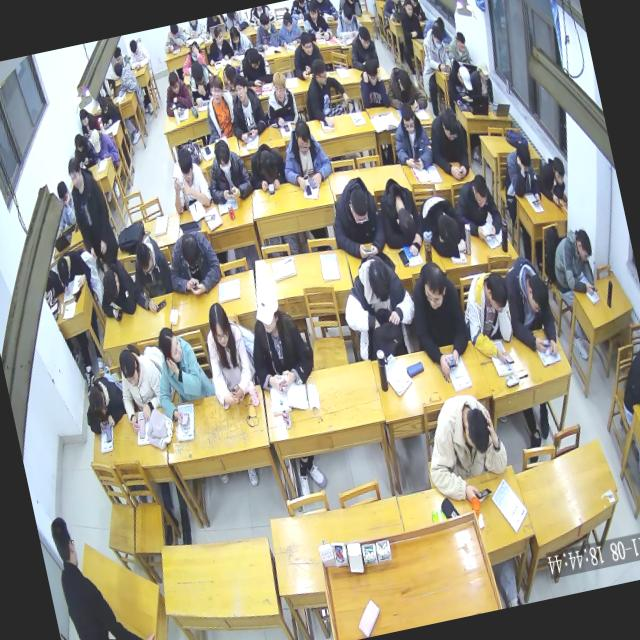bow: (496, 250, 564, 364), (160, 222, 226, 302), (372, 172, 428, 262), (414, 189, 470, 264), (76, 369, 130, 436), (92, 257, 142, 326), (381, 59, 429, 117), (246, 137, 290, 192), (532, 153, 572, 213), (52, 244, 95, 296), (182, 56, 218, 108), (176, 38, 208, 76), (160, 23, 187, 53)
down: (458, 402, 496, 458), (416, 258, 452, 314), (364, 254, 396, 305), (522, 270, 554, 318), (482, 269, 512, 317), (206, 300, 234, 351), (176, 230, 207, 276), (115, 346, 143, 392), (344, 186, 372, 229), (210, 135, 237, 177), (84, 384, 110, 424), (174, 144, 197, 186), (468, 172, 492, 212), (132, 240, 157, 278), (258, 147, 282, 186), (438, 105, 462, 143), (572, 226, 594, 264), (100, 267, 122, 303), (54, 253, 74, 289), (398, 100, 418, 136), (514, 140, 534, 176), (394, 66, 415, 98), (549, 155, 568, 188), (362, 56, 382, 87), (54, 178, 72, 208), (189, 58, 207, 88), (455, 63, 473, 93), (429, 23, 447, 52), (356, 22, 374, 50), (245, 44, 262, 72), (340, 0, 357, 28), (476, 57, 492, 84), (166, 70, 182, 96), (89, 128, 104, 154), (280, 9, 296, 33), (304, 0, 320, 22), (454, 28, 468, 52), (72, 132, 86, 154), (76, 106, 90, 128), (96, 94, 110, 116), (188, 39, 202, 61), (228, 24, 240, 46), (127, 36, 140, 56), (389, 0, 401, 5)
lookup: (248, 280, 285, 338), (205, 72, 228, 107), (64, 154, 85, 192), (230, 72, 252, 104), (270, 69, 290, 104), (297, 28, 316, 56), (402, 0, 415, 17)
sit: (45, 500, 164, 640), (414, 384, 517, 514), (332, 245, 423, 362), (236, 274, 318, 399), (402, 256, 476, 382), (144, 318, 222, 434), (454, 265, 524, 373), (62, 150, 122, 272), (195, 295, 258, 410), (322, 171, 391, 266), (110, 337, 173, 436), (122, 229, 180, 316), (272, 114, 335, 194), (296, 52, 354, 132), (423, 103, 477, 186), (544, 224, 602, 300), (449, 169, 506, 245), (199, 134, 256, 208), (385, 96, 436, 176), (163, 142, 214, 216), (221, 70, 270, 146), (498, 138, 544, 212), (196, 70, 240, 146), (258, 68, 302, 132), (353, 55, 391, 112), (287, 28, 327, 82), (344, 20, 382, 76), (417, 22, 453, 78), (440, 55, 476, 110), (158, 66, 195, 118), (234, 43, 274, 90), (612, 346, 640, 411), (297, 0, 333, 43), (467, 58, 498, 107), (88, 125, 122, 169), (248, 8, 280, 54), (272, 6, 306, 49), (52, 178, 80, 230), (200, 22, 233, 65), (329, 0, 363, 39), (70, 129, 98, 172), (444, 29, 474, 69), (394, 0, 423, 41), (95, 89, 124, 129), (111, 58, 139, 96), (122, 33, 150, 70), (226, 20, 254, 56), (76, 102, 101, 138), (378, 0, 405, 22)
